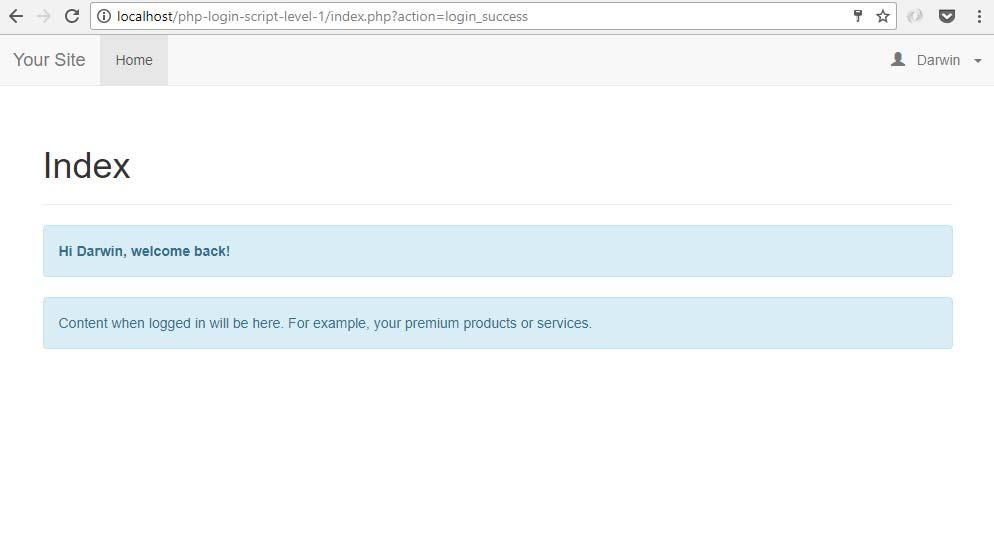button: (10, 42, 91, 81), (98, 39, 170, 81)
